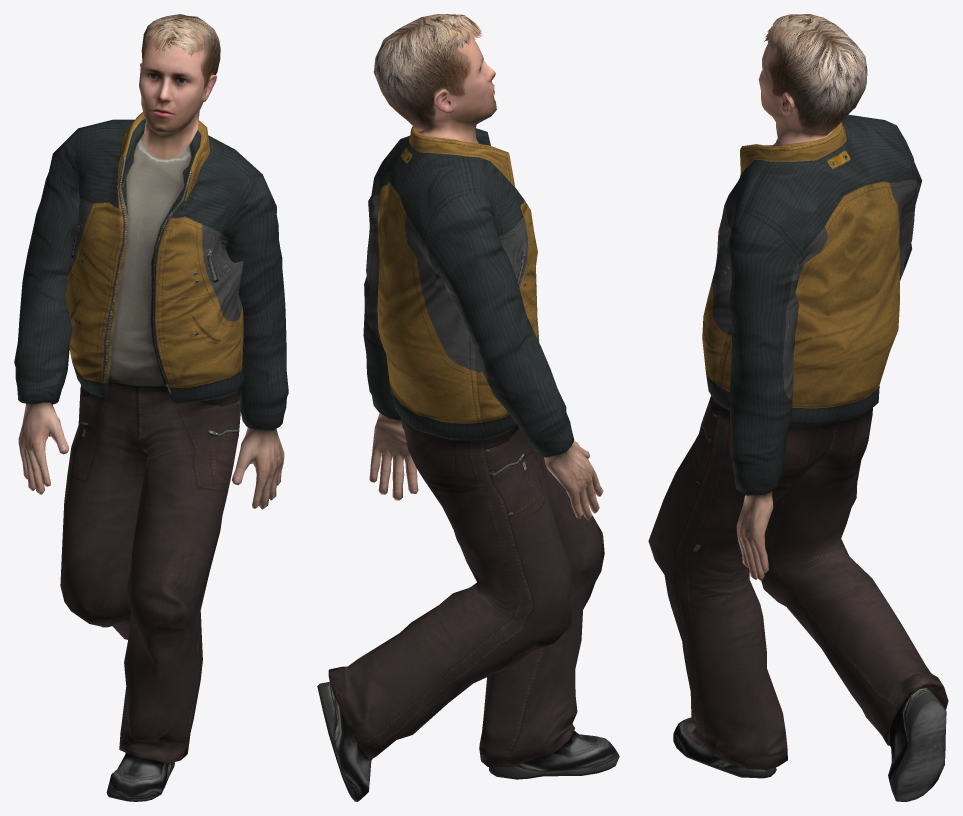
File: human.dae
3 renders of one model, left to right at view 1: azimuth 30°, elevation 25°; view 2: azimuth 150°, elevation 25°; view 3: azimuth 270°, elevation 25°, orthographic. The views are drawn at different scales.
Visible parts, largest first — view 1: JeuneHommeMarche (×2); view 2: JeuneHommeMarche (×2); view 3: JeuneHommeMarche.
Part boxes in pixels (bbox=[...]): JeuneHommeMarche (×2): bbox=[14, 14, 288, 801]; JeuneHommeMarche (×2): bbox=[317, 14, 619, 801]; JeuneHommeMarche: bbox=[648, 15, 948, 801].
Size of the model in its own units: 23.64 by 24.26 by 69.19.
2 materials, 2 textured.
